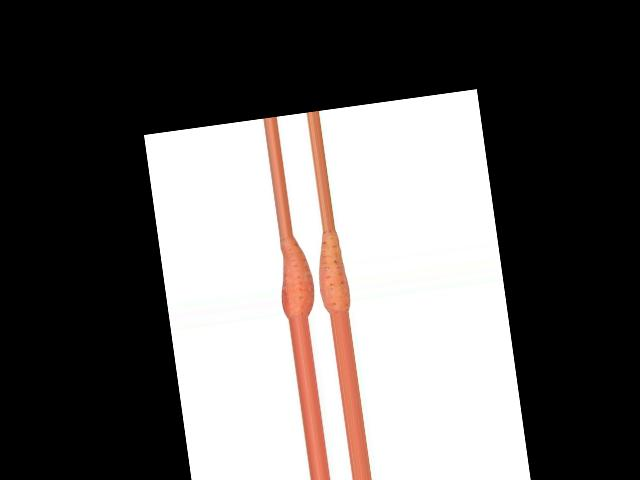sweet_potato: (312, 231, 351, 315)
